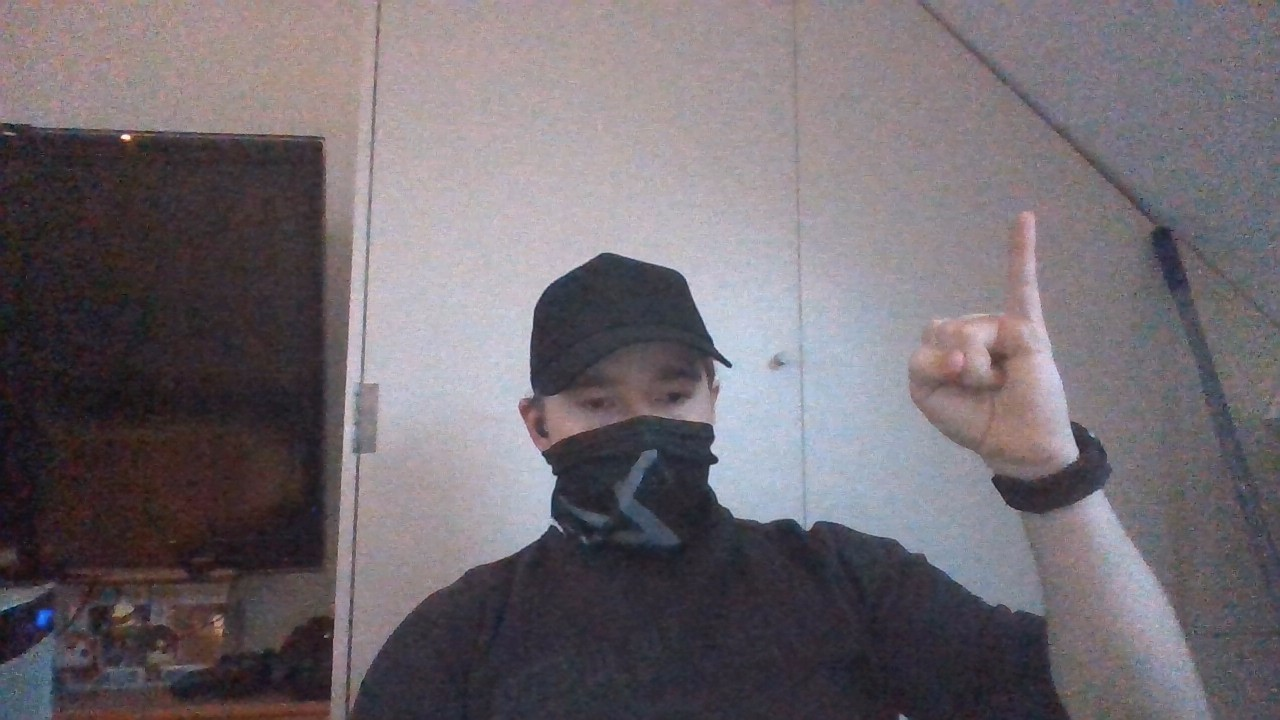I" Sign language: (893, 207, 1083, 461)
